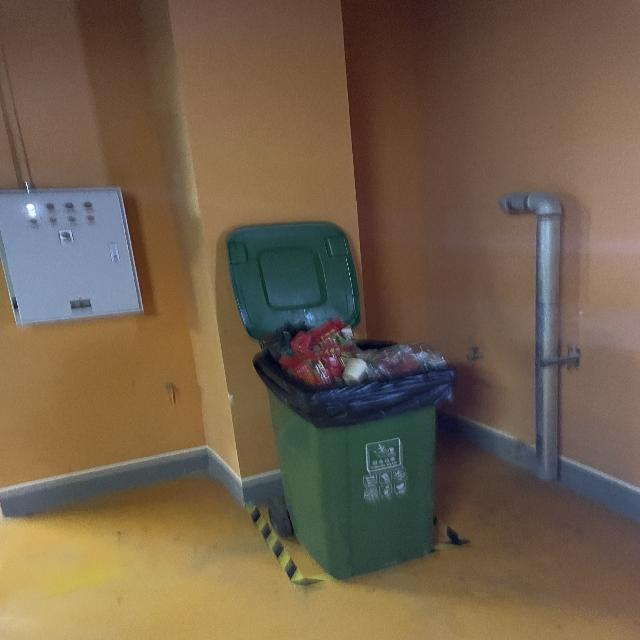overflow: (252, 315, 456, 578)
